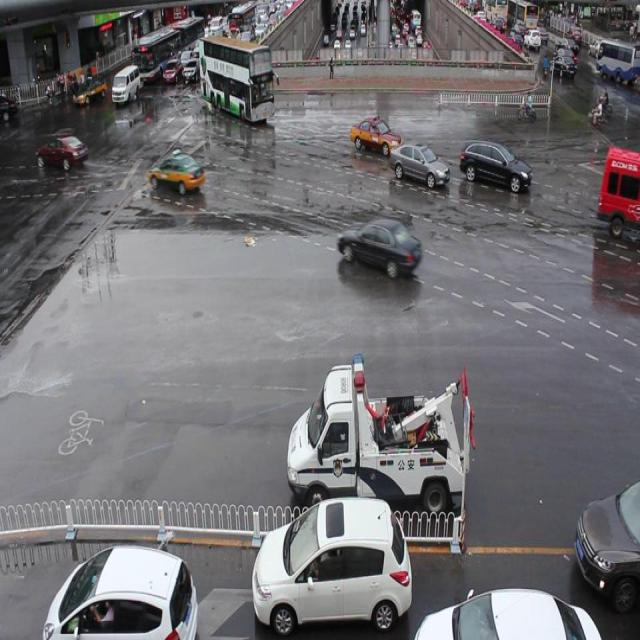bus: (287, 352, 473, 518)
car: (251, 492, 412, 633), (46, 546, 196, 640), (414, 584, 599, 640), (576, 483, 640, 610), (335, 217, 421, 277), (460, 138, 531, 193), (388, 140, 449, 188), (149, 153, 203, 197), (349, 117, 401, 158)
truck: (597, 142, 640, 240)
van: (198, 35, 275, 125)
